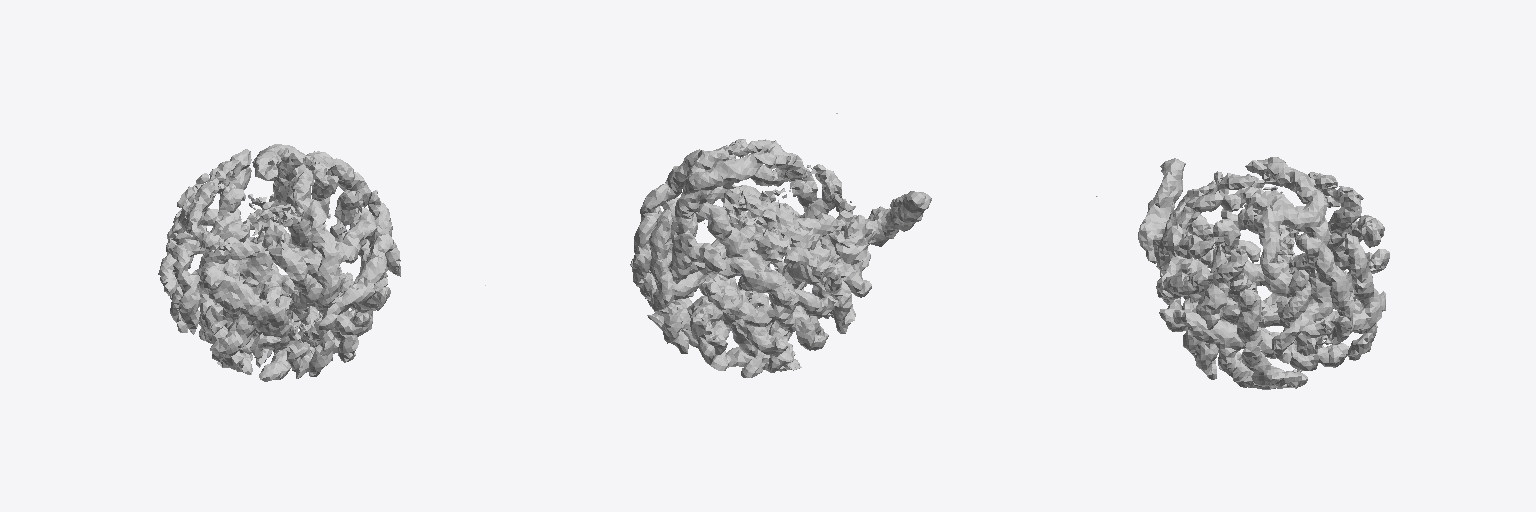
The model's file is MS2 interior.obj.
The picture shows the model from 3 angles: view 1: azimuth 30°, elevation 25°; view 2: azimuth 150°, elevation 25°; view 3: azimuth 270°, elevation 25°; orthographic projection.
Parts seen in each view (by area): view 1: emd_3404.map_1; view 2: emd_3404.map_1; view 3: emd_3404.map_1.
Boxes of the visible parts, <box> form: emd_3404.map_1: <box>158,144,485,381</box>; emd_3404.map_1: <box>630,113,931,377</box>; emd_3404.map_1: <box>1096,157,1389,389</box>.
Size of the model in its own units: 333 by 357 by 337.